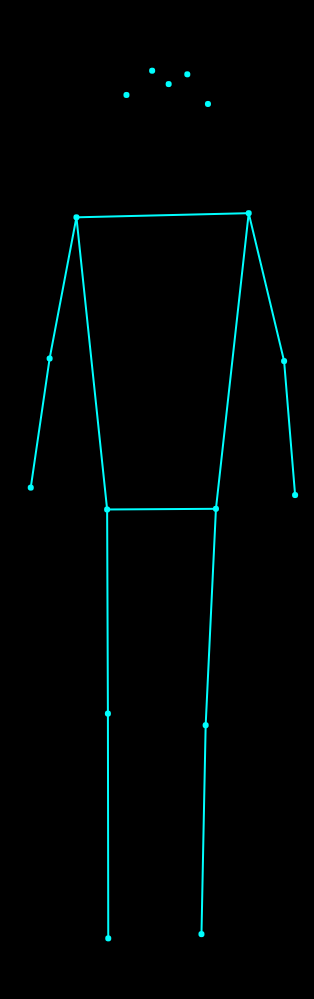mountain: (21, 57, 308, 945)
